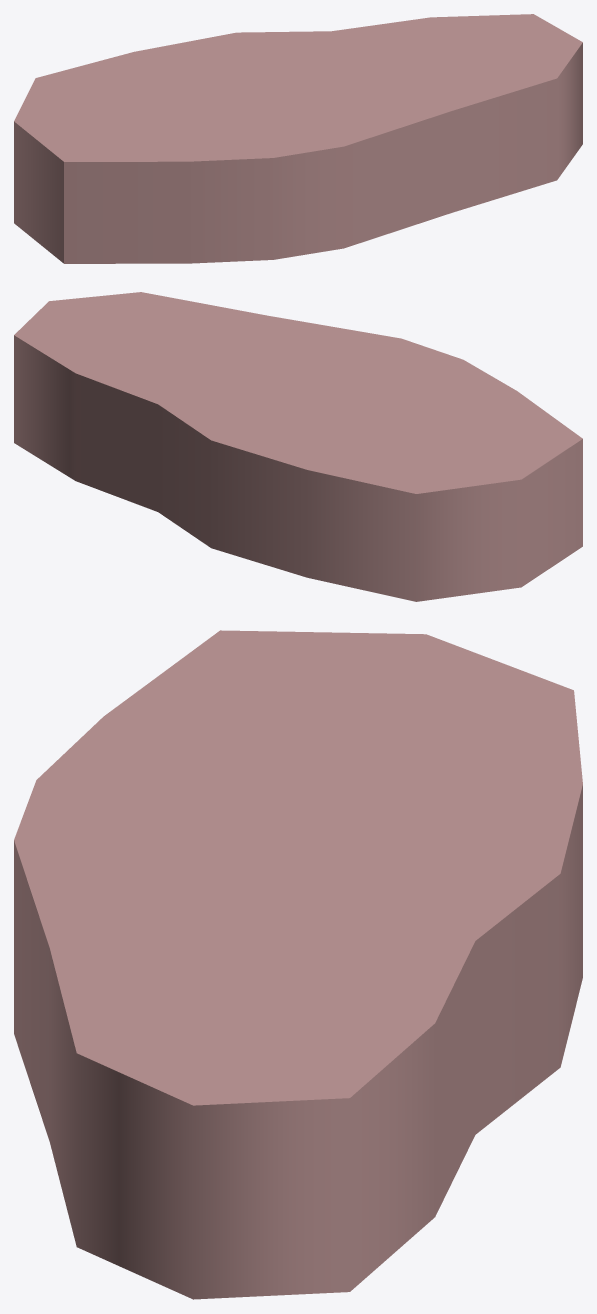
The model's file is meat.fbx.
3 renders of one model, top to bottom at view 1: azimuth 30°, elevation 25°; view 2: azimuth 150°, elevation 25°; view 3: azimuth 270°, elevation 25°, orthographic. The views are drawn at different scales.
Visible parts, largest first — view 1: geo_porkchop_mat_meat_0; view 2: geo_porkchop_mat_meat_0; view 3: geo_porkchop_mat_meat_0.
Part boxes in pixels (bbox=[...]): geo_porkchop_mat_meat_0: bbox=[14, 14, 582, 263]; geo_porkchop_mat_meat_0: bbox=[14, 292, 582, 601]; geo_porkchop_mat_meat_0: bbox=[14, 630, 582, 1299].
Size of the model in its own units: 1044 by 199 by 528.
